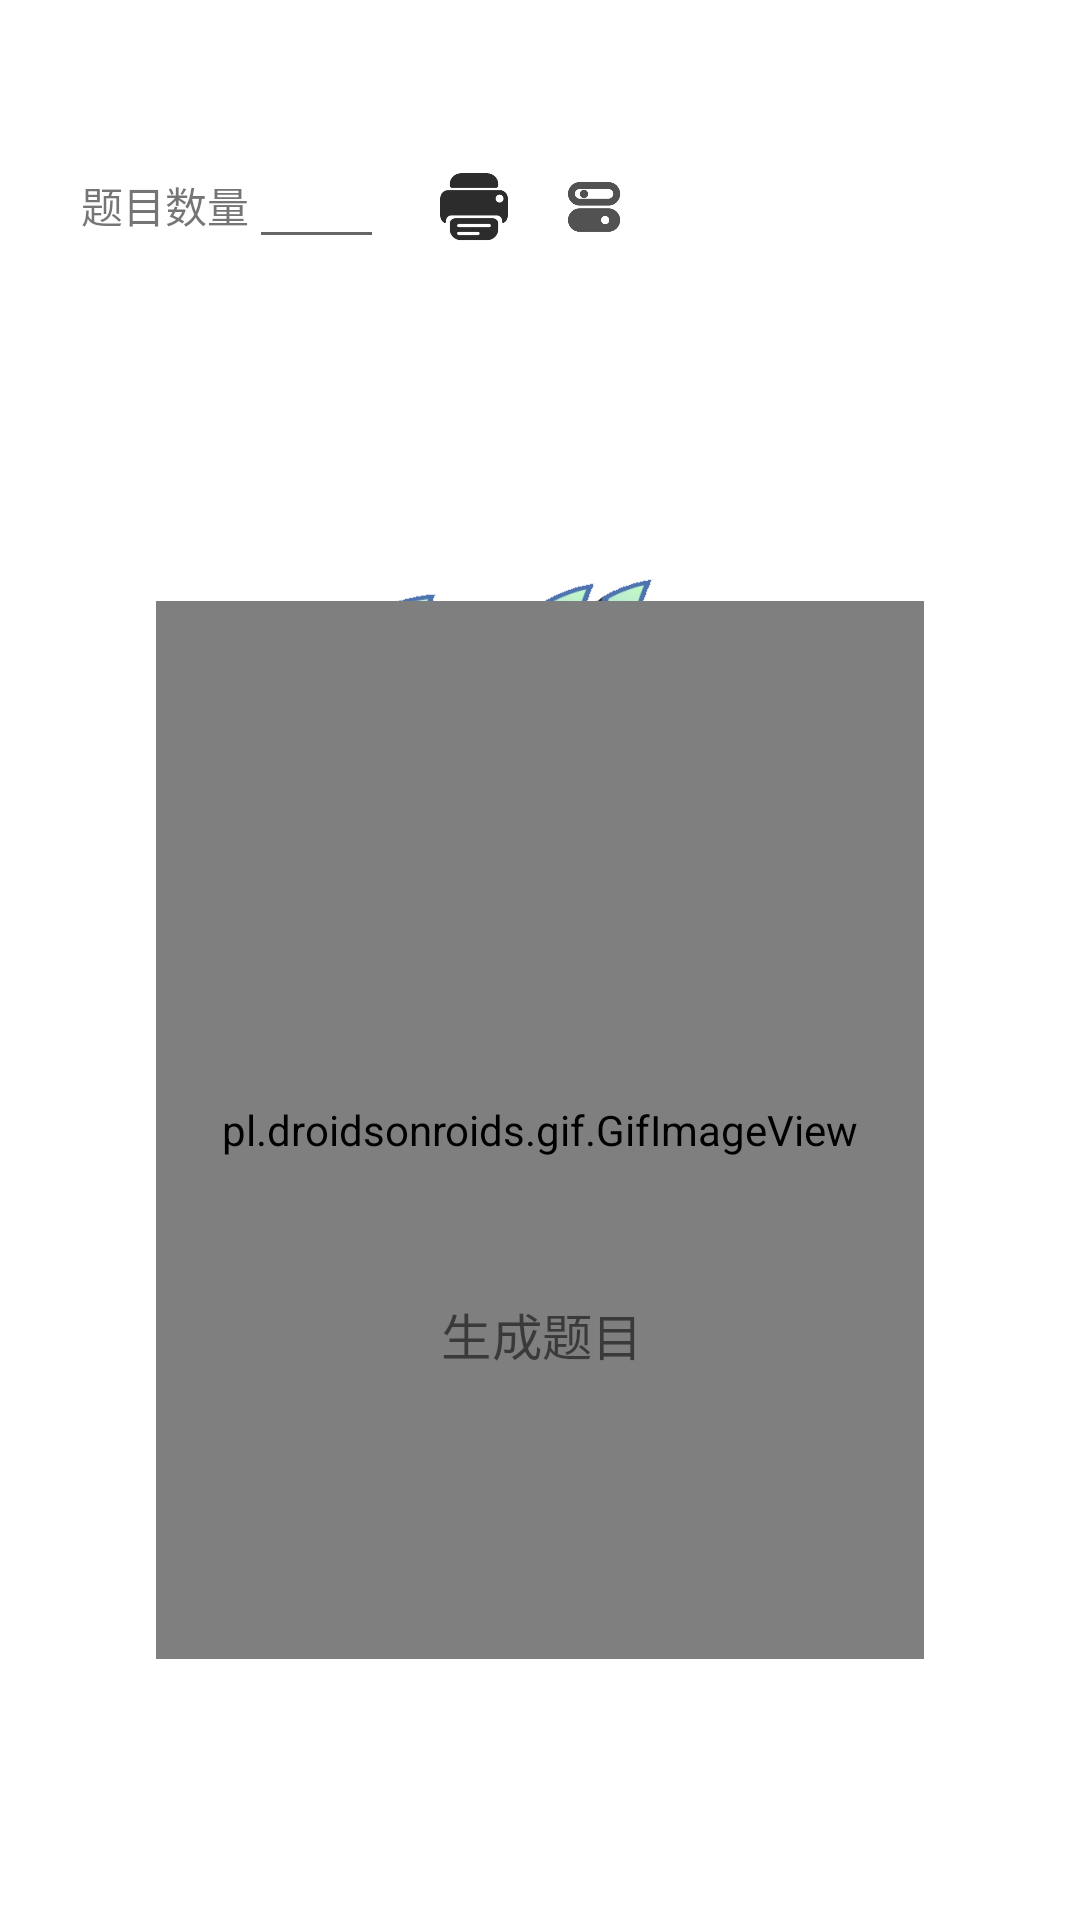

Icons on this 1080 x 1920 Android screen, each with the point to tap as point (x, y):
print: point (474, 206)
